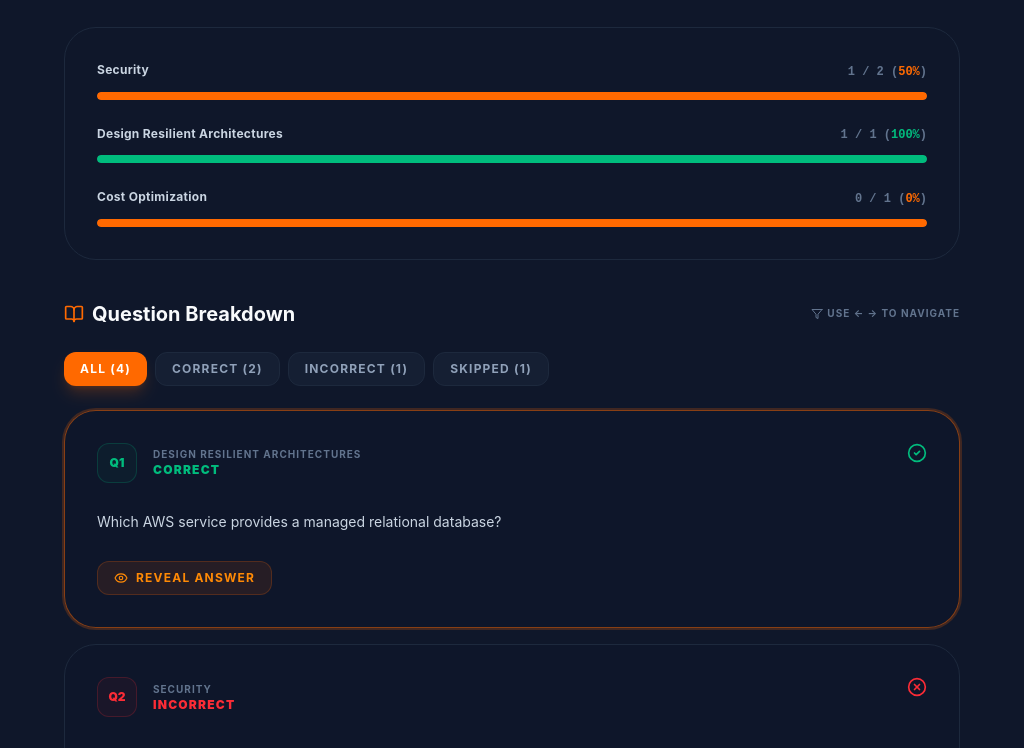
ResultReview Page › Filter tab switching (Requirement 4.1) › filters to only skipped questions when Skipped tab is clicked
(page scrolled)
Click the button "Skipped (1)": (491, 368) [433,352,549,386]
(page scrolled)
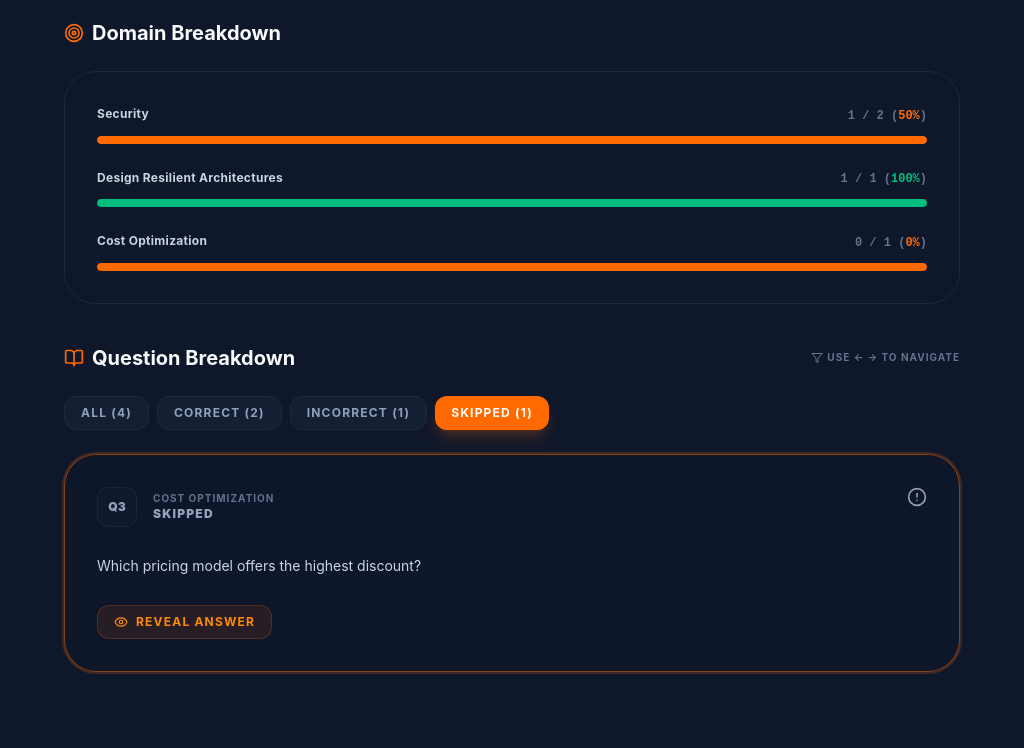
expect the text "Which pricing model offers the highest discount?" is shown: met, box [97,556,421,574]
expect the text "Which AWS service provides a managed relational database?" is gone: met
